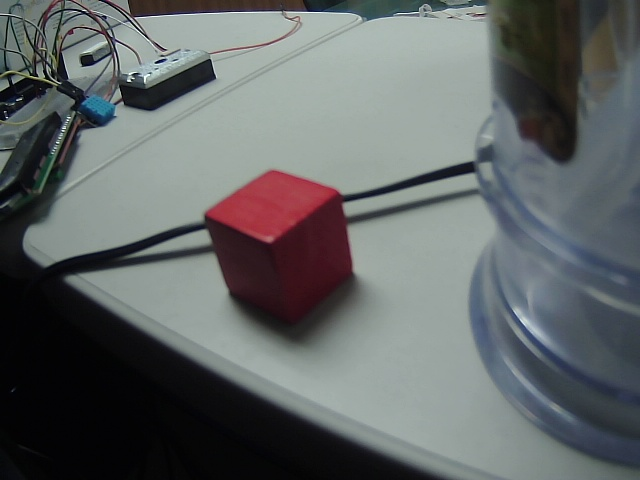redbox: (195, 164, 370, 328)
